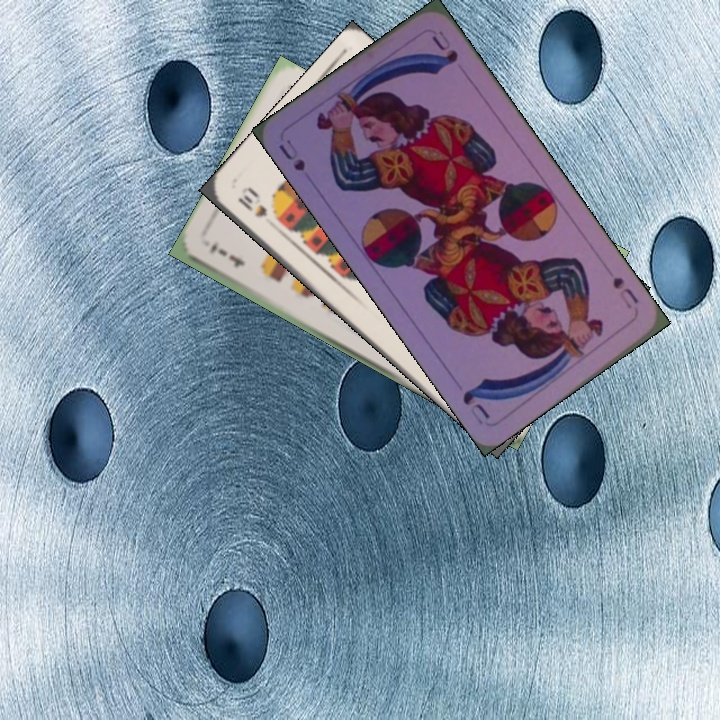E7: (205, 240, 247, 271)
S10: (234, 190, 270, 220)
SU: (274, 135, 308, 174), (608, 272, 641, 312)
